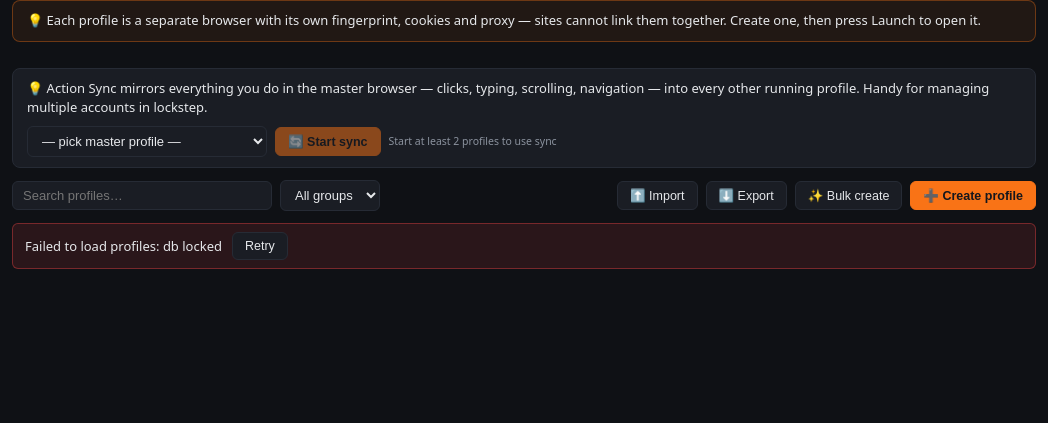
Profiles page › shows an error banner with retry when the list rejects
Check: the text "Failed to load profiles: db locked Retry" is shown, box [12,222,1036,268]
What coordinates should you click on to do the following:
click the button "Retry"
I would click on:
 (260, 246)
Its box is [232,232,288,260].
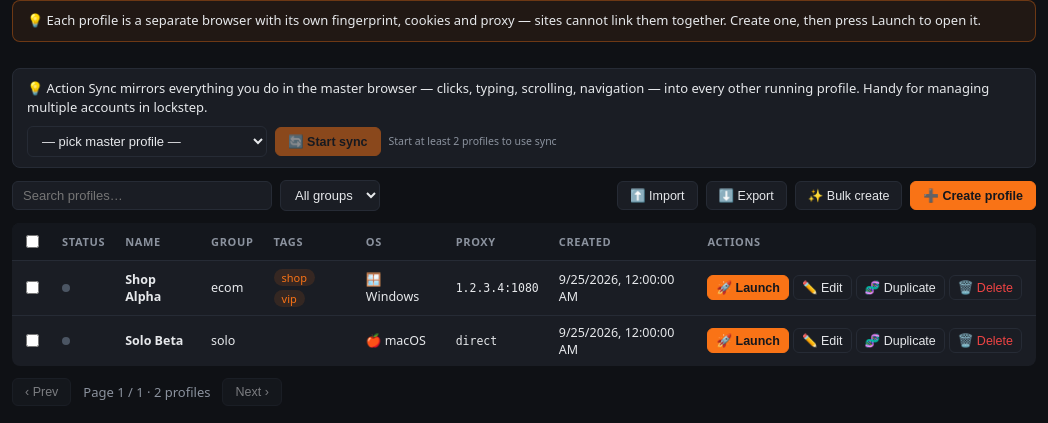
Check: the text "Shop Alpha" is shown, box [115,260,201,315]
